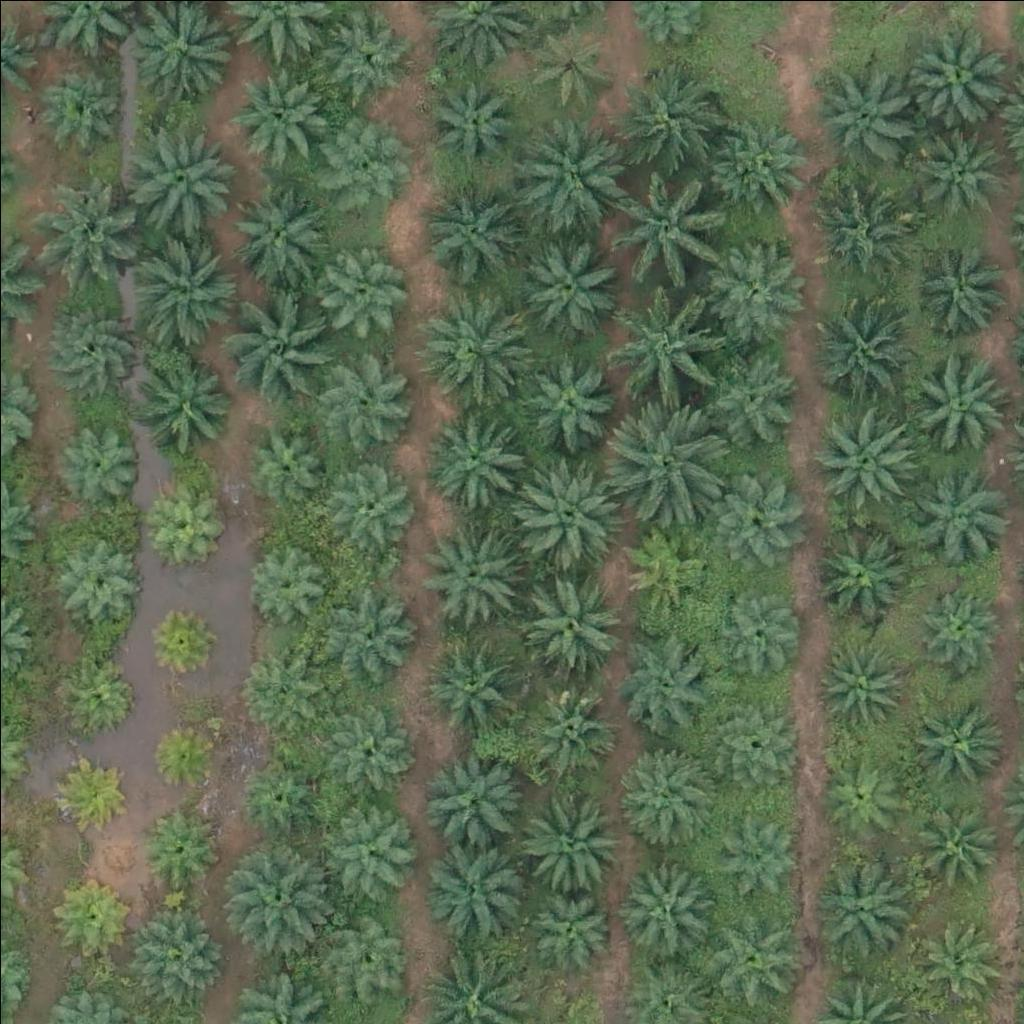Kelapa_Sawit: (129, 123, 242, 237), (420, 394, 533, 507), (419, 285, 532, 398), (509, 228, 622, 341), (221, 843, 334, 956), (610, 402, 723, 515), (127, 227, 239, 341), (33, 183, 145, 296), (229, 289, 341, 402), (509, 450, 621, 563), (512, 112, 624, 225), (816, 403, 928, 516), (609, 277, 721, 390), (609, 159, 721, 272), (614, 61, 726, 174), (135, 352, 235, 453), (232, 184, 332, 285), (311, 347, 411, 448), (422, 527, 522, 628), (515, 347, 615, 448), (698, 237, 798, 338), (711, 118, 811, 219), (815, 173, 915, 274), (906, 25, 1006, 126), (906, 237, 1006, 338), (426, 835, 526, 936), (421, 752, 521, 853), (521, 579, 621, 680), (422, 635, 522, 736), (315, 583, 415, 684), (519, 787, 619, 888), (615, 750, 715, 851), (810, 859, 910, 960), (908, 693, 1008, 794), (43, 295, 143, 395), (694, 345, 794, 445), (810, 521, 910, 621), (813, 292, 913, 392), (813, 60, 913, 160), (909, 119, 1009, 219), (907, 352, 1007, 452), (903, 468, 1003, 568), (614, 633, 714, 733), (698, 905, 798, 1005), (901, 792, 1001, 892), (422, 179, 521, 280), (718, 588, 806, 677), (58, 533, 146, 621), (232, 64, 320, 152), (332, 461, 420, 549), (236, 753, 324, 841), (236, 635, 324, 723), (326, 797, 414, 885), (325, 705, 413, 793), (523, 889, 611, 977), (715, 804, 803, 892), (711, 700, 799, 788), (809, 637, 897, 725), (918, 582, 1006, 670), (912, 918, 1000, 1006), (522, 20, 609, 109), (57, 417, 144, 505), (35, 55, 122, 143), (241, 537, 328, 625), (244, 413, 331, 501), (330, 18, 417, 106), (321, 130, 408, 218), (318, 245, 405, 333), (427, 79, 514, 167), (712, 484, 799, 572), (133, 917, 220, 1005), (321, 908, 408, 996), (529, 683, 616, 771), (620, 859, 707, 947), (816, 750, 903, 838), (621, 523, 708, 611), (64, 659, 139, 735), (147, 479, 222, 555), (142, 606, 217, 682), (49, 755, 124, 831), (139, 814, 214, 889), (147, 717, 222, 792), (49, 878, 124, 953)
